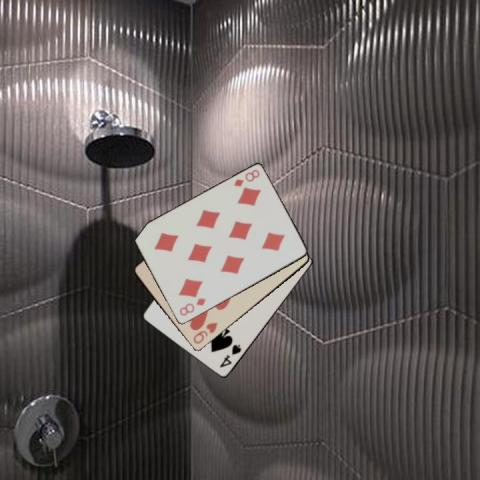4s: (216, 342, 243, 370)
8d: (176, 296, 207, 318), (231, 167, 261, 188)
9h: (190, 320, 219, 346)
